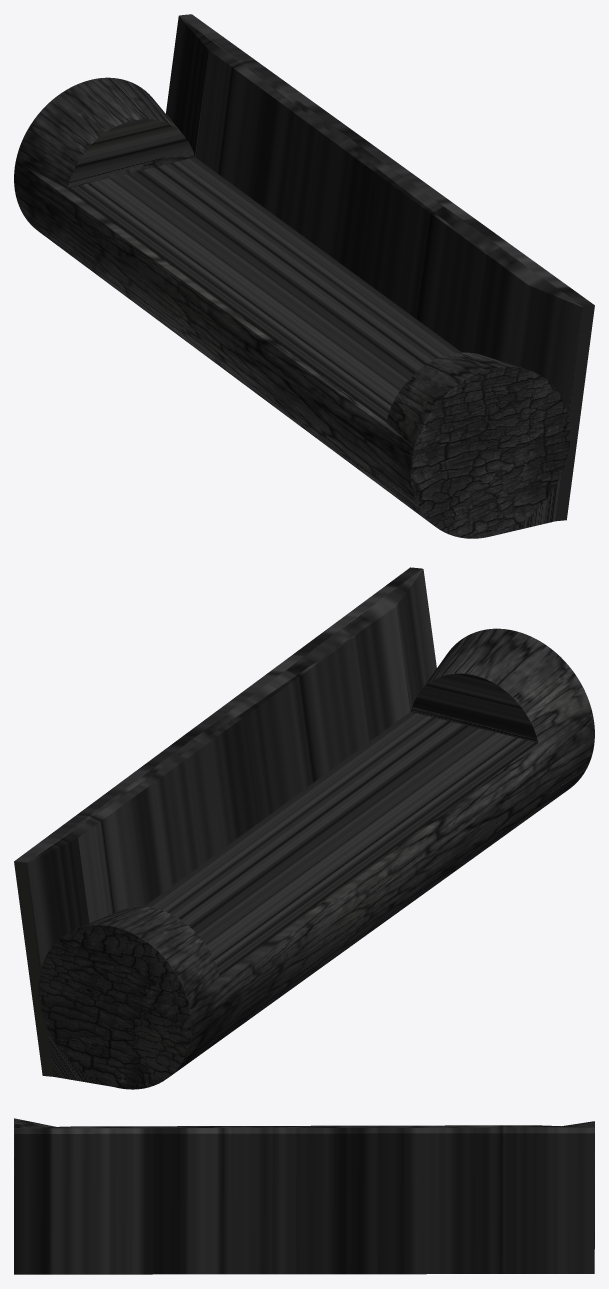
The model's file is bench2.obj.
3 views of the same model, one above another, from view 1: azimuth 30°, elevation 25°; view 2: azimuth 150°, elevation 25°; view 3: azimuth 270°, elevation 25° (orthographic). The views are drawn at different scales.
Parts seen in each view (by area): view 1: Cylinder.001; view 2: Cylinder.001; view 3: Cylinder.001.
Boxes of the visible parts, x1,y1,x2,y2 form: Cylinder.001: (14, 14, 594, 538); Cylinder.001: (14, 567, 594, 1089); Cylinder.001: (14, 1118, 594, 1274).
Bounding box in the file's own units: 2.19 × 2.38 × 8.22.
